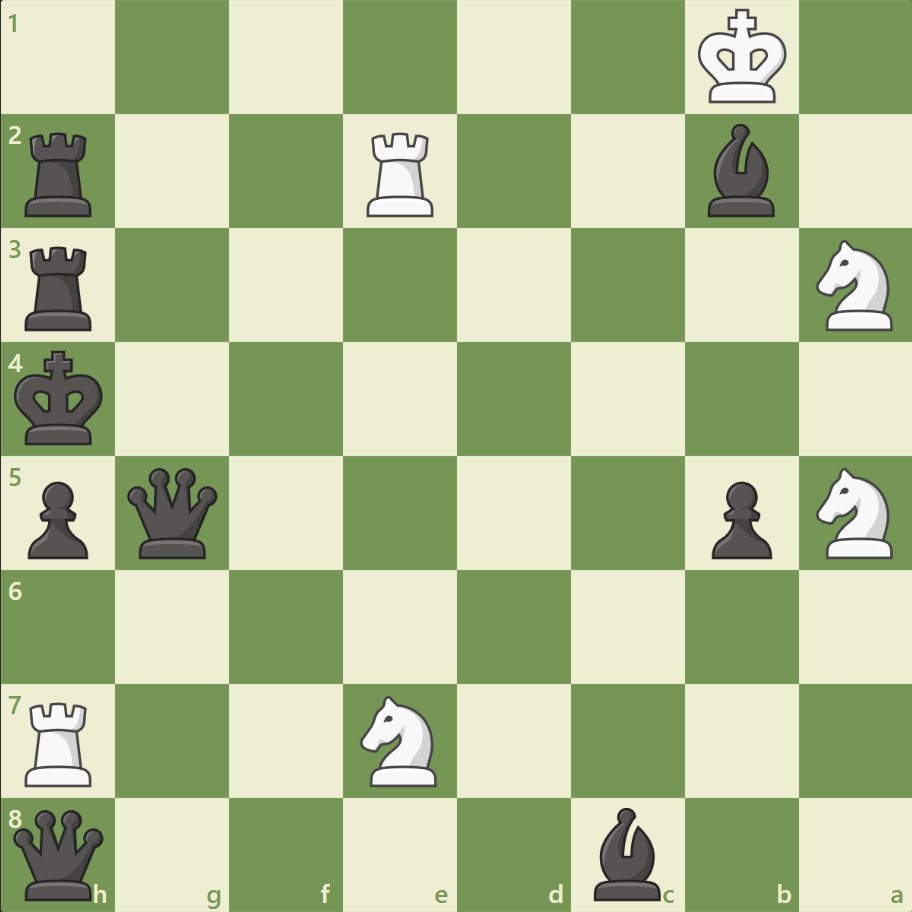K: (692, 4, 792, 112)
N: (351, 688, 449, 791), (806, 461, 903, 564), (806, 234, 903, 337)
R: (19, 693, 102, 790), (360, 125, 442, 222)
b: (585, 801, 669, 904), (698, 120, 782, 222)
k: (11, 344, 111, 452)
p: (701, 473, 776, 564), (20, 473, 95, 564)
q: (10, 804, 109, 903), (124, 463, 223, 562)
r: (19, 239, 102, 336), (19, 125, 102, 222)
